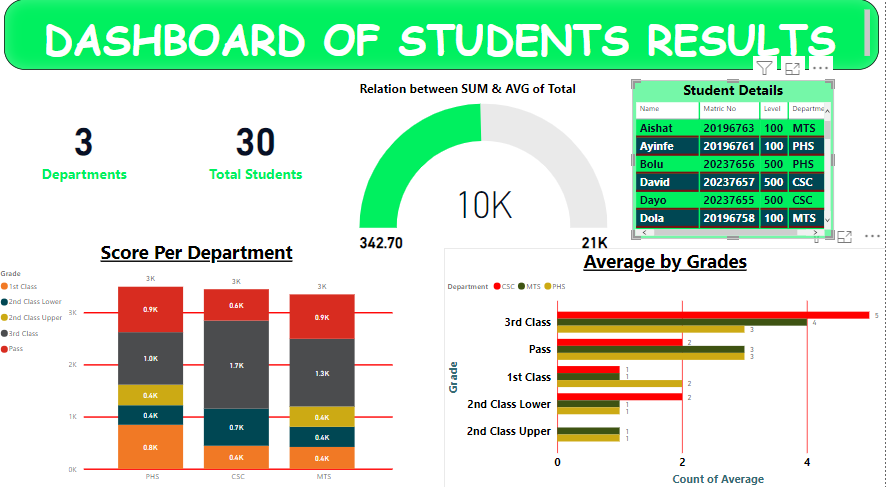

The dashboard page shown, as its layout file describes it:
{"tool":"powerbi","page":{"name":"Page 1","canvas":[1280,720],"ordinal":0},"visuals":[{"type":"textbox","box":[10.1,14.4,1260,102.2],"z":0},{"type":"columnChart","title":"Score Per Department","fields":{"Y":["Results.Total Score"],"Category":["Student.Department"],"Series":["Results.Grade"]},"box":[0,360,574.6,360],"z":1000},{"type":"card","fields":{"Values":["Student.Name"]},"box":[240.5,116.6,263.5,220.3],"z":3000},{"type":"card","fields":{"Values":["Student.Department"]},"box":[0,116.6,250.6,220.3],"z":4000},{"type":"clusteredBarChart","title":"Average by Grades","fields":{"Y":["Results.Average"],"Category":["Results.Grade"],"Series":["Student.Department"]},"box":[643.7,373,636.5,347],"z":5000},{"type":"gauge","title":"Relation between SUM & AVG of Total","fields":{"MinValue":["CountNonNull(Results.Total Score)1"],"Y":["Results.Total Score"]},"box":[517,131,367.2,257.8],"z":6000},{"type":"tableEx","title":"Student Details","fields":{"Values":["Student.Name","Student.Matric No","Student.Level","Student.Department"]},"box":[914.4,131,290.9,229],"z":6001}]}

Visuals, with their boxes in screenshot pixels (x1, y1, x2, y2), scaled from the page's 1280x720 canvas onto the 886x487 screenshot:
textbox: locate(7, 10, 879, 79)
"Score Per Department" columnChart: locate(0, 244, 398, 486)
card - Student.Name: locate(166, 79, 349, 228)
card - Student.Department: locate(0, 79, 173, 228)
"Average by Grades" clusteredBarChart: locate(446, 252, 885, 486)
"Relation between SUM & AVG of Total" gauge: locate(358, 89, 612, 263)
"Student Details" tableEx: locate(633, 89, 834, 244)
